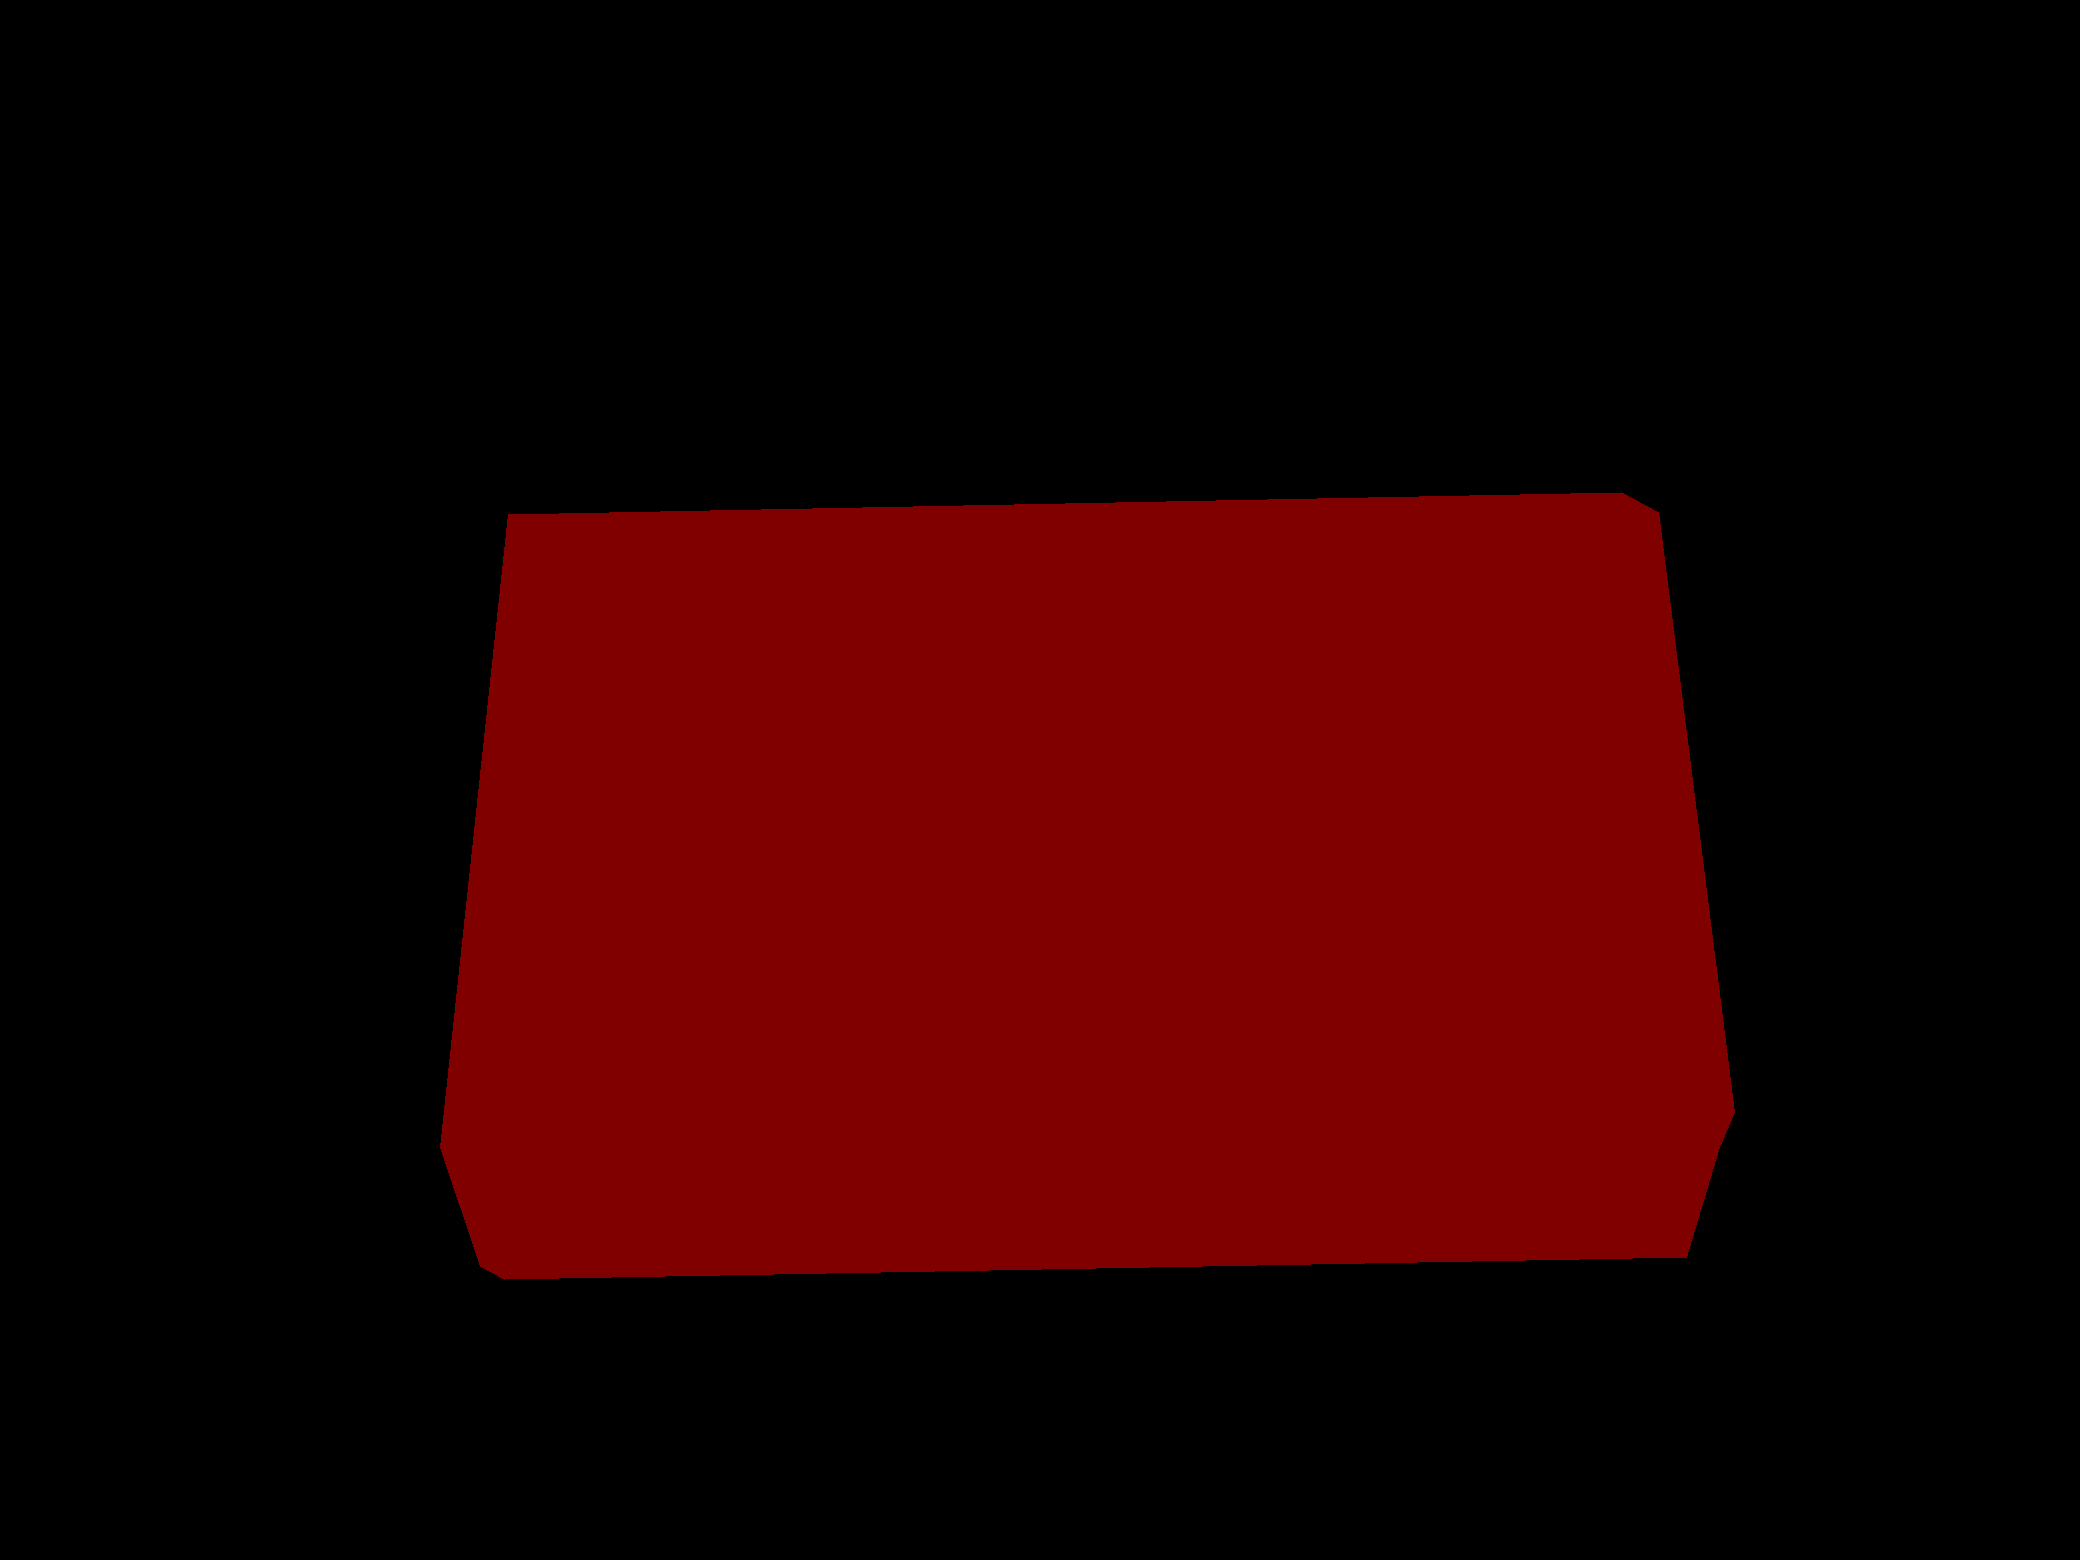sign: (441, 492, 1734, 1280)
